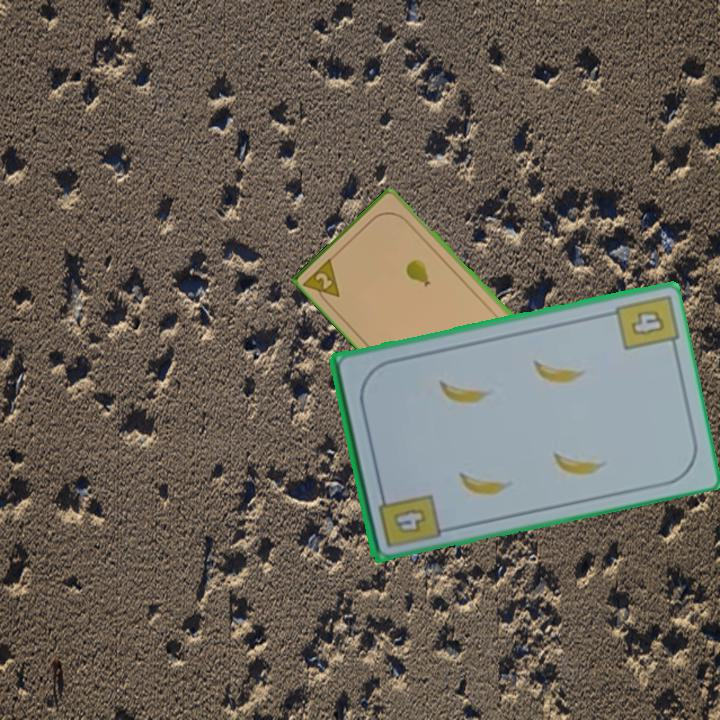2p: (301, 253, 344, 309)
4b: (375, 486, 442, 550), (628, 306, 668, 338)
